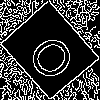O: (24, 25, 86, 85)
